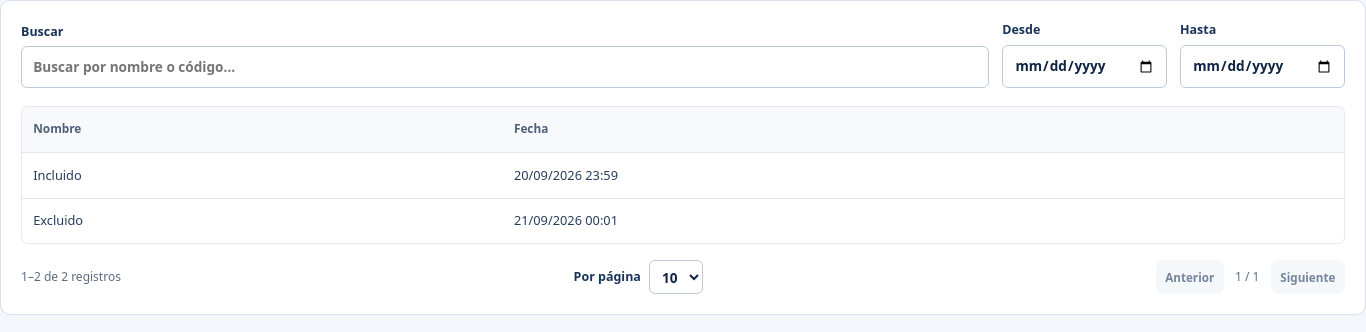
Test: listas de trabajo › incluye todos los movimientos del día final del filtro
The width and height of the screenshot is (1366, 332).
In the date field labelled "Hasta": (1262, 66) [1180,44,1345,88], type "2026-09-20"
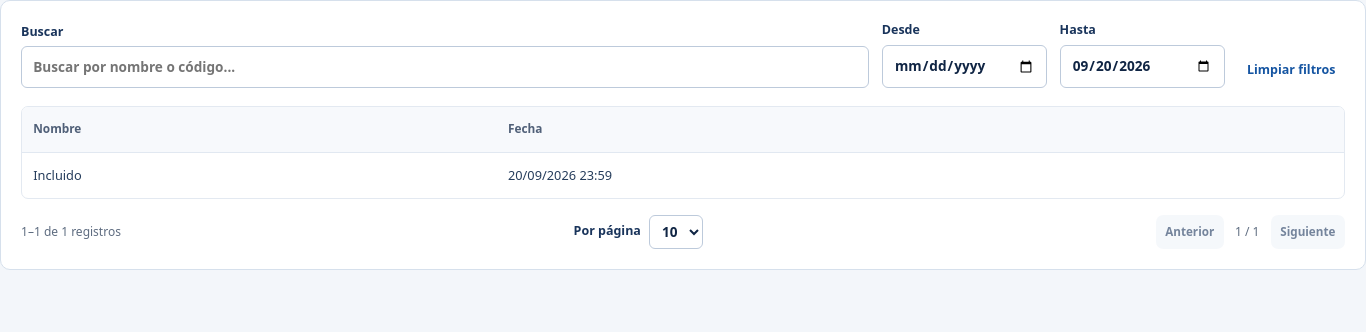
Expected: the text "Incluido" is shown, [22,152,497,198]
Expected: the text "Excluido" is gone
